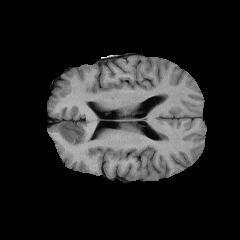glioma: (59, 121, 91, 146)
